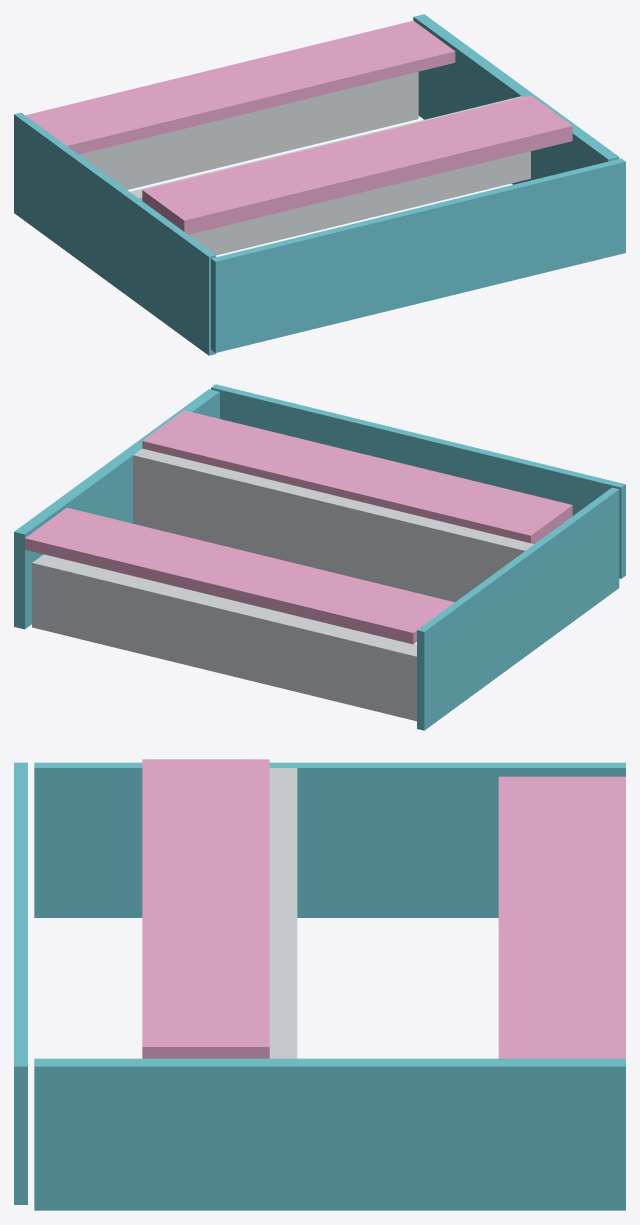
Rendered from tinker.obj.
3 views of the same model, one above another, from view 1: azimuth 30°, elevation 25°; view 2: azimuth 150°, elevation 25°; view 3: azimuth 270°, elevation 25° (orthographic). The views are drawn at different scales.
Visible parts, largest first — view 1: group_0_7720667, group_0_15708628, group_0_14541540; view 2: group_0_14541540, group_0_7720667, group_0_15708628; view 3: group_0_7720667, group_0_15708628, group_0_14541540.
Boxes of the visible parts, left/top/right/bottom form: group_0_7720667: left=14, top=14, right=625, bottom=355; group_0_15708628: left=25, top=20, right=572, bottom=234; group_0_14541540: left=79, top=71, right=530, bottom=255; group_0_14541540: left=32, top=448, right=533, bottom=721; group_0_7720667: left=14, top=384, right=625, bottom=730; group_0_15708628: left=25, top=410, right=572, bottom=644; group_0_7720667: left=14, top=762, right=625, bottom=1210; group_0_15708628: left=142, top=759, right=625, bottom=1058; group_0_14541540: left=269, top=768, right=297, bottom=1058.
Bounding box in the file's own units: 113 × 28 × 96.18.
